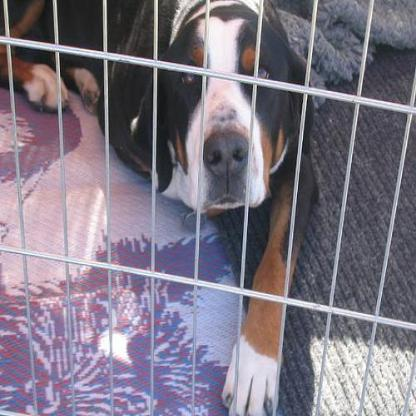Greater_Swiss_Mountain_dog: (0, 1, 315, 413)
